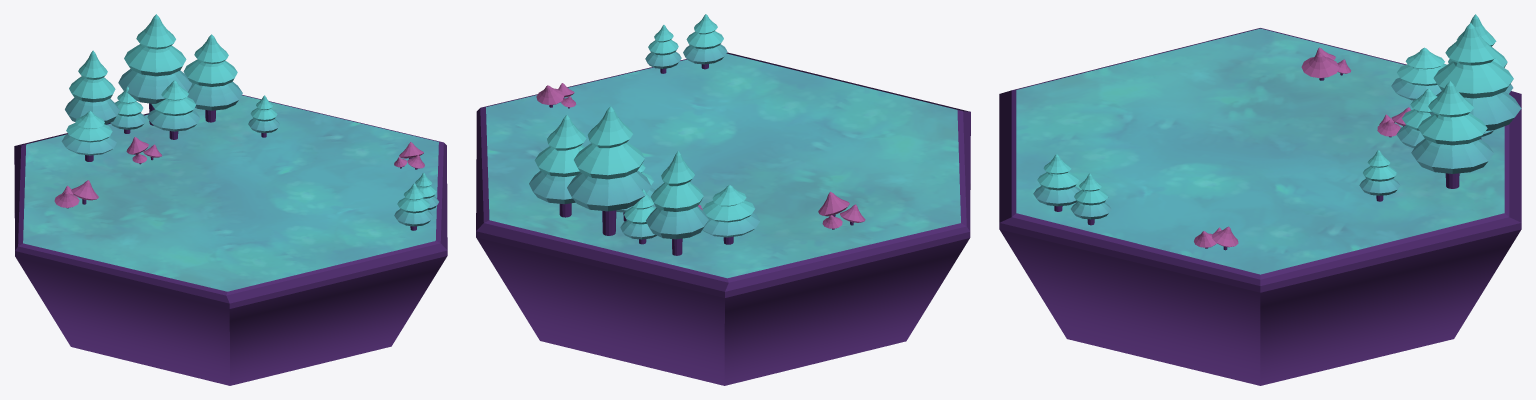
The model's file is Asset_TileForest_01.fbx.
3 renders of one model, left to right at view 1: azimuth 30°, elevation 25°; view 2: azimuth 150°, elevation 25°; view 3: azimuth 270°, elevation 25°, orthographic. The views are drawn at different scales.
Visible parts, largest first — view 1: PolySurface_TileForest_01, PolySurface_TreeForest_06, PolySurface_TreeForest_04, PolySurface_TreeForest_03, PolySurface_TreeForest_07, PolySurface_TreeForest_02, PolySurface_TreeForest_08, PolySurface_TreeForest_01, PolySurface_TreeForest_05, PolySurface_MushroomForest_01, PolySurface_MushroomForest_02, PolySurface_MushroomForest_03 (+1 smaller); view 2: PolySurface_TileForest_01, PolySurface_TreeForest_06, PolySurface_TreeForest_03, PolySurface_TreeForest_04, PolySurface_TreeForest_02, PolySurface_TreeForest_08, PolySurface_TreeForest_01, PolySurface_TreeForest_09, PolySurface_MushroomForest_01, PolySurface_MushroomForest_03; view 3: PolySurface_TileForest_01, PolySurface_TreeForest_04, PolySurface_TreeForest_06, PolySurface_TreeForest_02, PolySurface_TreeForest_08, PolySurface_TreeForest_05, PolySurface_TreeForest_09, PolySurface_TreeForest_07, PolySurface_MushroomForest_01, PolySurface_MushroomForest_03, PolySurface_TreeForest_03, PolySurface_MushroomForest_02.
Boxes of the visible parts, x1,y1,x2,y2 form: PolySurface_TileForest_01: (14,94,447,385); PolySurface_TreeForest_06: (118,14,191,125); PolySurface_TreeForest_04: (183,34,242,122); PolySurface_TreeForest_03: (65,50,119,124); PolySurface_TreeForest_07: (147,80,200,139); PolySurface_TreeForest_02: (61,111,116,161); PolySurface_TreeForest_08: (394,183,432,230); PolySurface_TreeForest_01: (110,87,146,133); PolySurface_TreeForest_05: (248,95,279,137); PolySurface_MushroomForest_01: (54,180,98,208); PolySurface_MushroomForest_02: (126,137,161,164); PolySurface_MushroomForest_03: (394,142,424,169); PolySurface_TileForest_01: (476,52,970,385); PolySurface_TreeForest_06: (567,106,651,235); PolySurface_TreeForest_03: (646,151,708,255); PolySurface_TreeForest_04: (529,115,586,217); PolySurface_TreeForest_02: (702,185,760,244); PolySurface_TreeForest_08: (683,14,727,69); PolySurface_TreeForest_01: (620,189,656,244); PolySurface_TreeForest_09: (645,25,681,73); PolySurface_MushroomForest_01: (818,191,865,229); PolySurface_MushroomForest_03: (536,83,576,108); PolySurface_TileForest_01: (999,28,1521,385); PolySurface_TreeForest_04: (1411,81,1493,188); PolySurface_TreeForest_06: (1430,22,1521,139); PolySurface_TreeForest_02: (1391,47,1446,100); PolySurface_TreeForest_08: (1033,154,1080,211); PolySurface_TreeForest_05: (1359,150,1400,201); PolySurface_TreeForest_09: (1071,173,1111,225); PolySurface_TreeForest_07: (1396,88,1437,148); PolySurface_MushroomForest_01: (1301,47,1351,80); PolySurface_MushroomForest_03: (1194,226,1238,250); PolySurface_TreeForest_03: (1448,14,1513,93); PolySurface_MushroomForest_02: (1377,107,1410,137).
Size of the model in its own units: 4.36 by 2.19 by 3.77.
